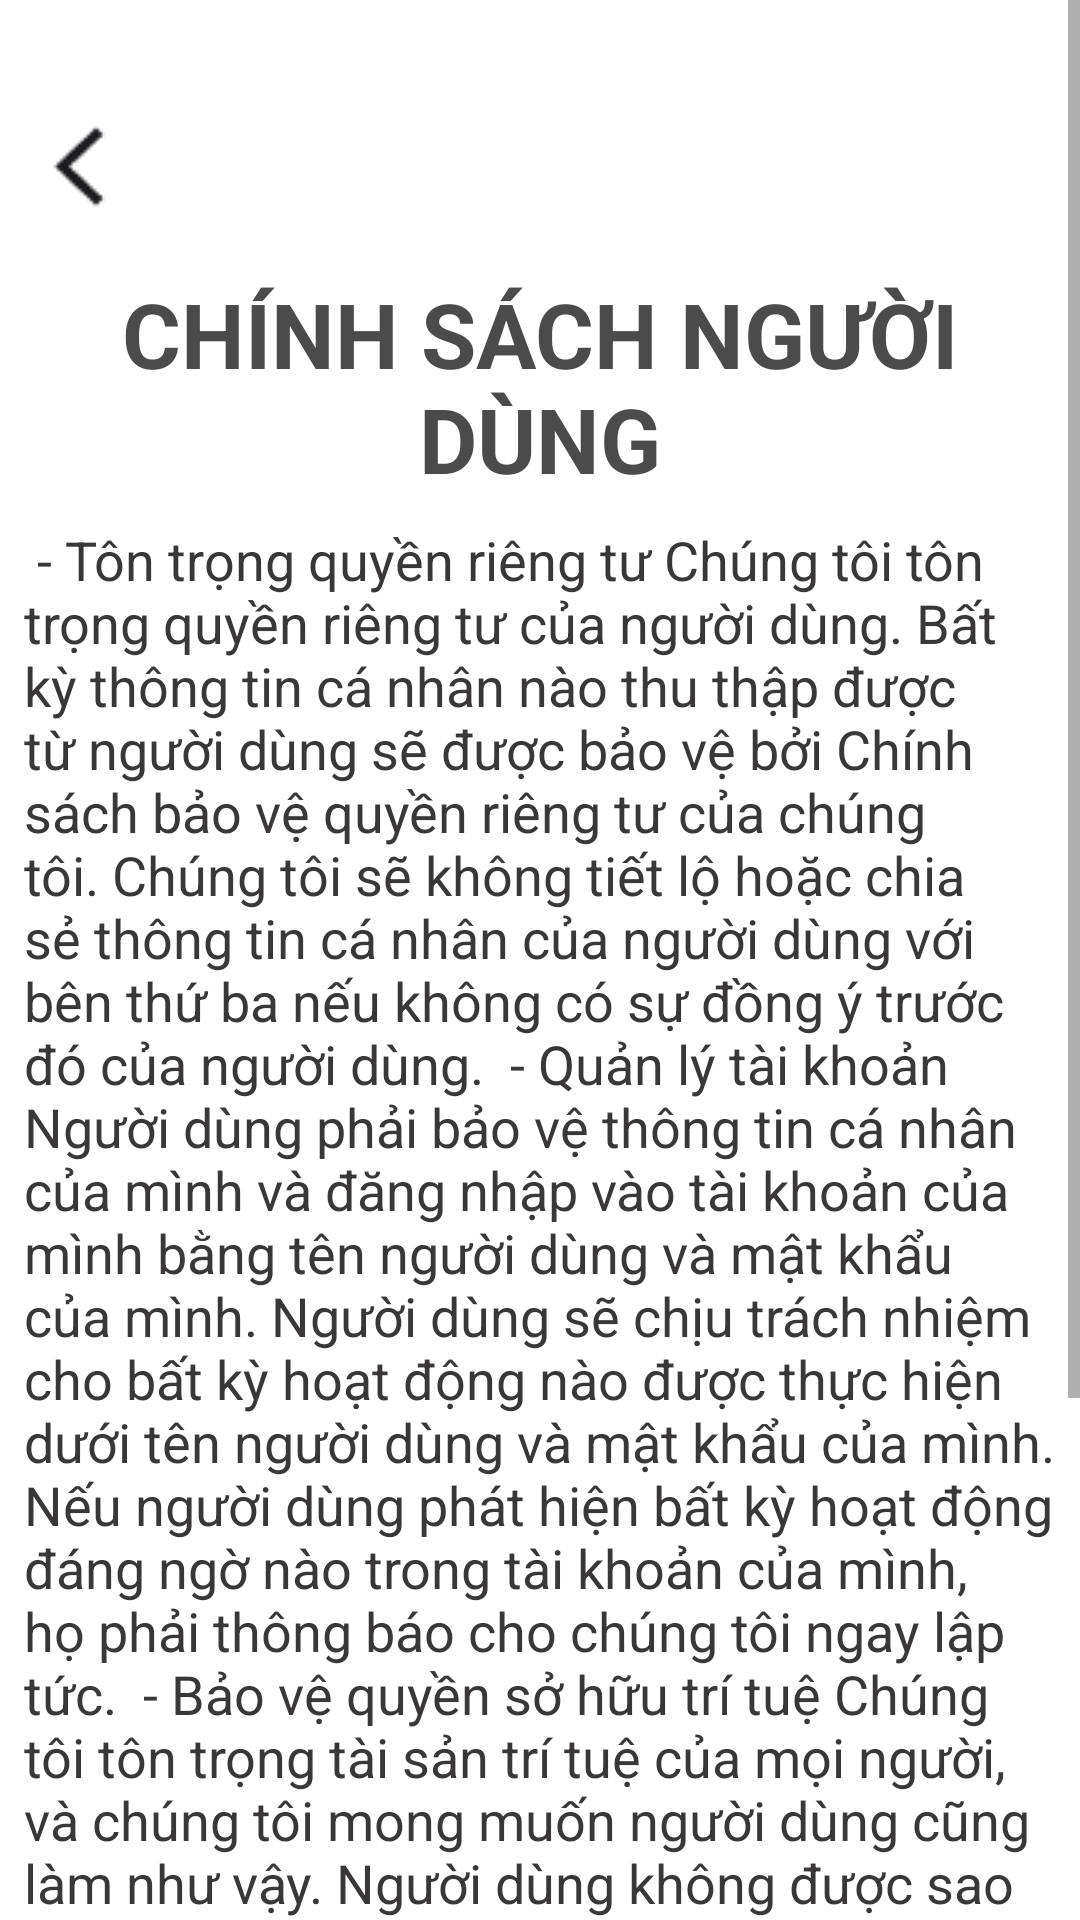

Where icons sit on this 1080*1920 app screen, as (x1, y1, x2, y2):
arrow back: (53, 127, 104, 206)
